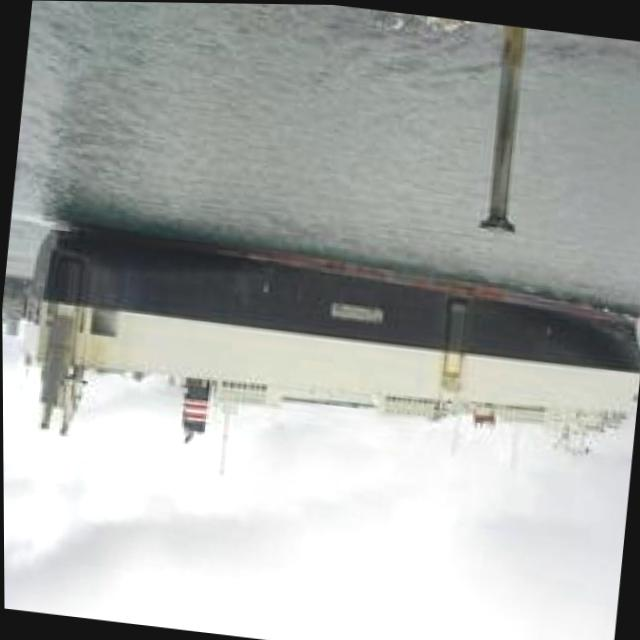ship2: (26, 225, 640, 476)
